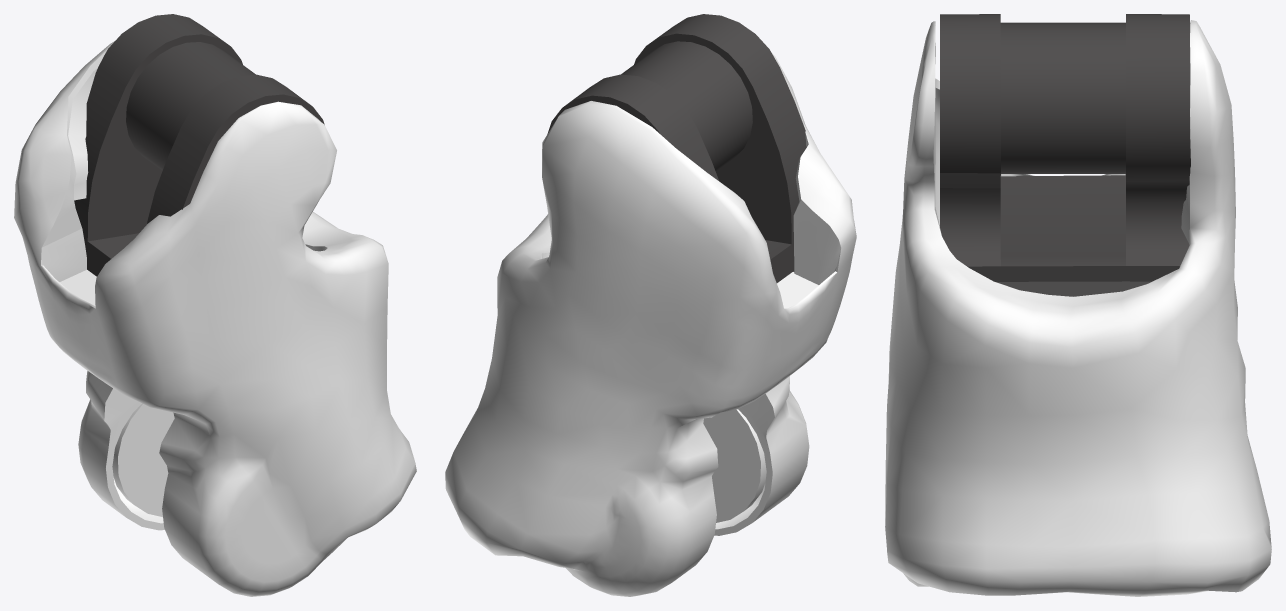
File: LHipPitch.dae
3 views of the same model, side by side, from view 1: azimuth 30°, elevation 25°; view 2: azimuth 150°, elevation 25°; view 3: azimuth 270°, elevation 25° (orthographic). The views are drawn at different scales.
Parts seen in each view (by area): view 1: LHipPitch; view 2: LHipPitch; view 3: LHipPitch.
Boxes of the visible parts, <box> form: LHipPitch: <box>14,14,416,596</box>; LHipPitch: <box>445,14,856,596</box>; LHipPitch: <box>885,14,1271,596</box>.
Bounding box in the file's own units: 0.9585 × 0.8955 × 1.43.
Materials: 1 (1 with a texture image).
